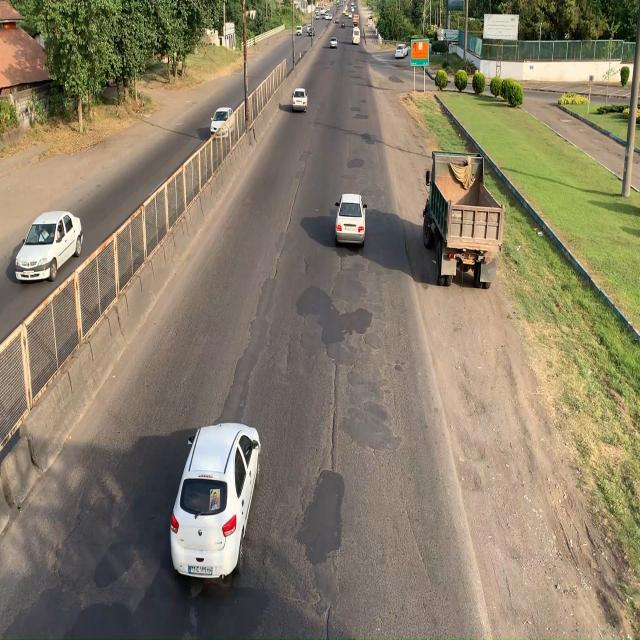Truck: (424, 156, 508, 298)
cars: (168, 420, 262, 582), (14, 210, 82, 284), (335, 195, 367, 249)
